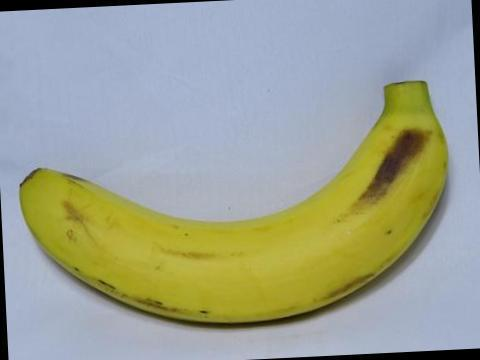freshripe: (14, 68, 463, 341)
